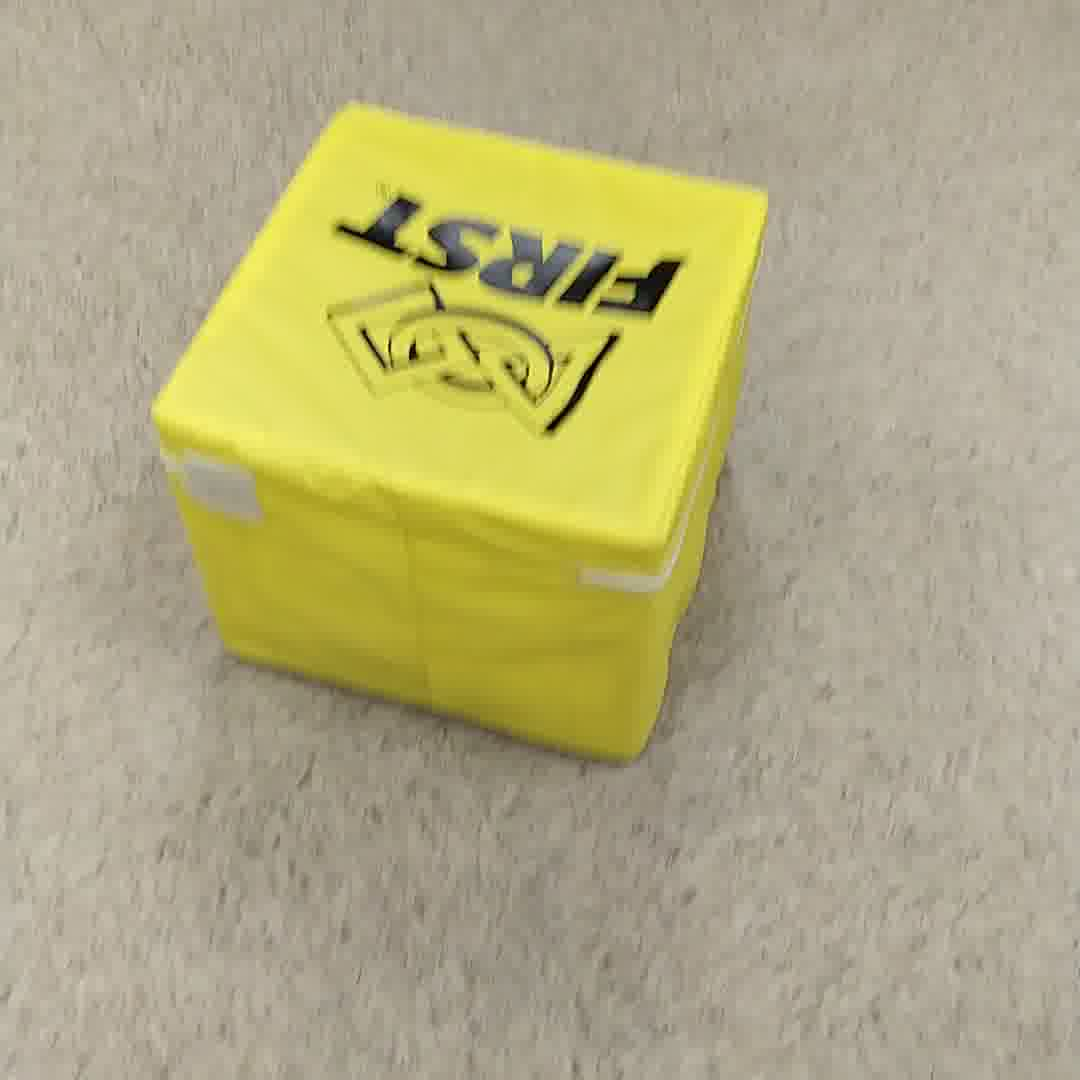box: (148, 91, 775, 789)
